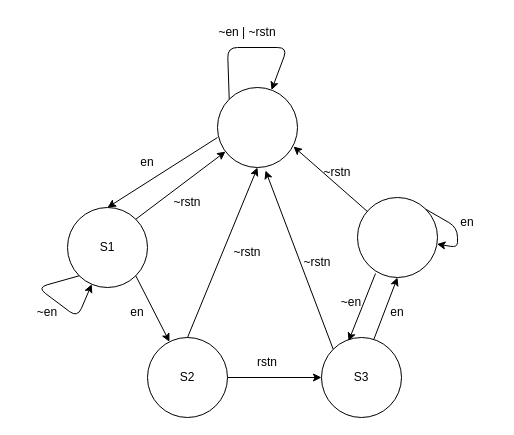
Image size: 514x435. Some labels were removed from this diagram. The centre of each missing label's shape, as x and y in pixels:
S0: point 257,127
S4: point 397,237
